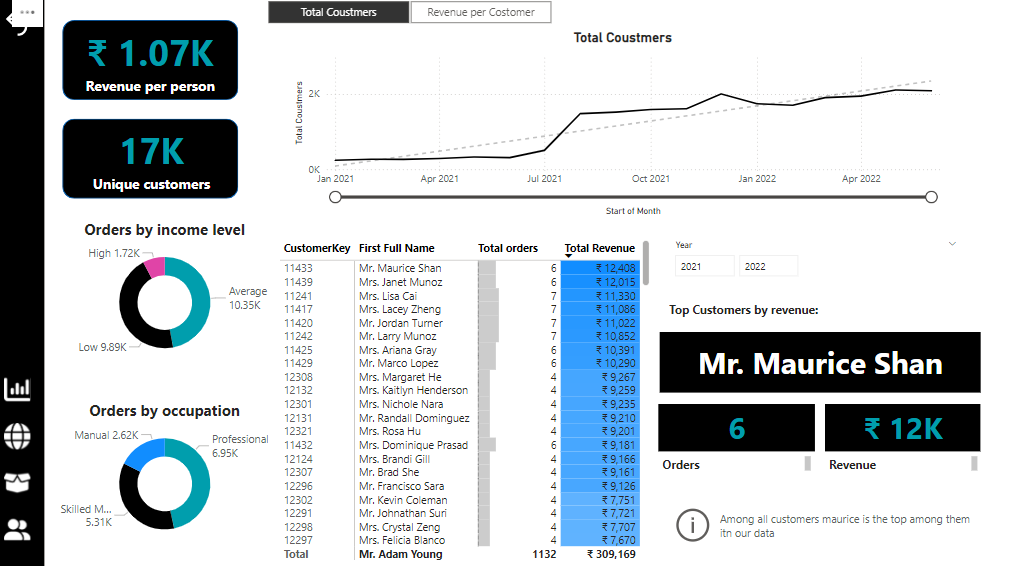

Layout of this report page (visuals, bound fields, positions):
{"tool":"powerbi","page":{"name":"Customer Details","canvas":[1280,720],"ordinal":3},"visuals":[{"type":"shape","box":[0,0,60,720],"z":0},{"type":"actionButton","box":[5.3,472.2,52.2,41.1],"z":0,"group":"g1"},{"type":"actionButton","box":[5.3,530.7,52.2,41.1],"z":1000,"group":"g1"},{"type":"shape","box":[82,153.3,220,100],"z":1000},{"type":"shape","box":[81.6,30.6,220,100],"z":2000},{"type":"actionButton","box":[5.3,589.2,52.2,41.1],"z":2000,"group":"g1"},{"type":"card","fields":{"Values":["Measures  Table.Total Coustmers"]},"box":[71.4,136.9,242.4,132.9],"z":3000},{"type":"actionButton","box":[5.3,647.8,52.2,41.1],"z":3000,"group":"g1"},{"type":"card","fields":{"Values":["Measures  Table.Average Revenue per person"]},"box":[70.2,13.7,242.4,132.9],"z":4000},{"type":"lineChart","fields":{"Y":["Measures  Table.Total Coustmers"],"Category":["Calendar Lookup.Date Hierarchy.Start of Year","Calendar Lookup.Date Hierarchy.Start of Month","Calendar Lookup.Date Hierarchy.Start of Week","Calendar Lookup.Date Hierarchy.Date"]},"box":[366.7,41.1,831.1,237.8],"z":5000},{"type":"donutChart","title":"Orders by income level","fields":{"Category":["Customer Lookup.Income Level"],"Y":["Measures  Table.Total orders"]},"box":[72.2,278.9,275.6,184.4],"z":6000},{"type":"donutChart","title":"Orders by occupation","fields":{"Y":["Measures  Table.Total orders"],"Category":["Customer Lookup.Occupation"]},"box":[72.2,504.4,275.6,184.4],"z":7000},{"type":"pivotTable","fields":{"Rows":["Customer Lookup.CustomerKey"],"Values":["Customer Lookup.Full Name","Measures  Table.Total orders","Measures  Table.Total Revenue"]},"box":[347.8,300,472.2,410],"z":8000},{"type":"card","fields":{"Values":["Customer Lookup.Full Name"]},"box":[828.1,419.3,401.1,75.6],"z":9000},{"type":"card","fields":{"Values":["Measures  Table.Total orders"]},"box":[827,510.4,195.6,58.9],"z":10000},{"type":"card","fields":{"Values":["Measures  Table.Total Revenue"]},"box":[1034.8,510.4,194.4,58.9],"z":11000},{"type":"textbox","box":[834.8,375.9,271.1,34.4],"z":12000},{"type":"textbox","box":[827,569.3,195.6,28.9],"z":13000},{"type":"textbox","box":[1034.8,569.3,195.6,28.9],"z":14000},{"type":"slicer","fields":{"Values":["Calendar Lookup.Year"]},"box":[835.2,300.7,376.7,75.6],"z":15000},{"type":"actionButton","box":[843,635.2,387.8,53.3],"z":16000},{"type":"actionButton","box":[5.6,14.4,50,40],"z":17000},{"type":"group","id":"g1","title":"Navigation Buttons","box":[5.3,472.2,52.2,216.7],"z":18000},{"type":"slicer","fields":{"Values":["Customer Metric Selection.Customer Metric Selection"]},"box":[313.3,0,403.3,41.1],"z":19000}]}

Visuals, with their boxes on the page's 1280x720 design canvas (x1, y1, x2, y2). These are canvas units, not pixel positions in the 1011x566 screenshot, which may show the page scaled, cropped or inside an application window:
shape: box=[0, 0, 60, 720]
actionButton: box=[5, 472, 58, 513]
actionButton: box=[5, 531, 58, 572]
shape: box=[82, 153, 302, 253]
shape: box=[82, 31, 302, 131]
actionButton: box=[5, 589, 58, 630]
card - Measures  Table.Total Coustmers: box=[71, 137, 314, 270]
actionButton: box=[5, 648, 58, 689]
card - Measures  Table.Average Revenue per person: box=[70, 14, 313, 147]
lineChart - Measures  Table.Total Coustmers x Calendar Lookup.Date Hierarchy.Start of Year: box=[367, 41, 1198, 279]
"Orders by income level" donutChart: box=[72, 279, 348, 463]
"Orders by occupation" donutChart: box=[72, 504, 348, 689]
pivotTable - Customer Lookup.CustomerKey x Customer Lookup.Full Name: box=[348, 300, 820, 710]
card - Customer Lookup.Full Name: box=[828, 419, 1229, 495]
card - Measures  Table.Total orders: box=[827, 510, 1023, 569]
card - Measures  Table.Total Revenue: box=[1035, 510, 1229, 569]
textbox: box=[835, 376, 1106, 410]
textbox: box=[827, 569, 1023, 598]
textbox: box=[1035, 569, 1230, 598]
slicer - Calendar Lookup.Year: box=[835, 301, 1212, 376]
actionButton: box=[843, 635, 1231, 688]
actionButton: box=[6, 14, 56, 54]
"Navigation Buttons" group: box=[5, 472, 58, 689]
slicer - Customer Metric Selection.Customer Metric Selection: box=[313, 0, 717, 41]
